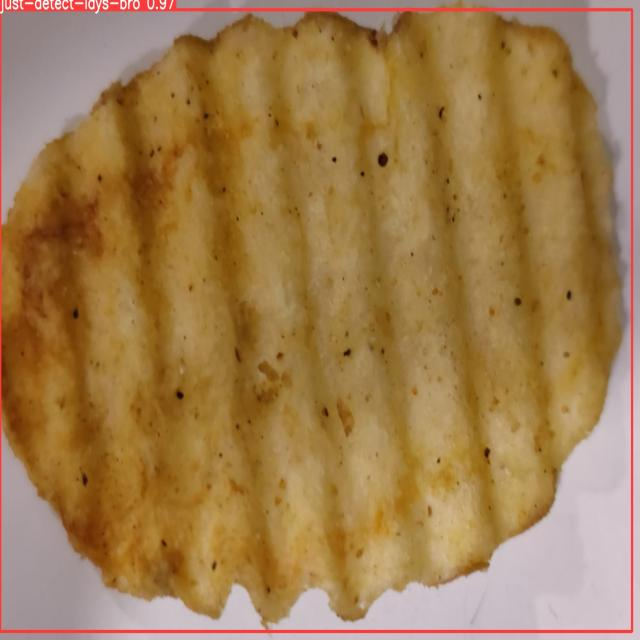Wet Waste: (8, 18, 624, 618)
